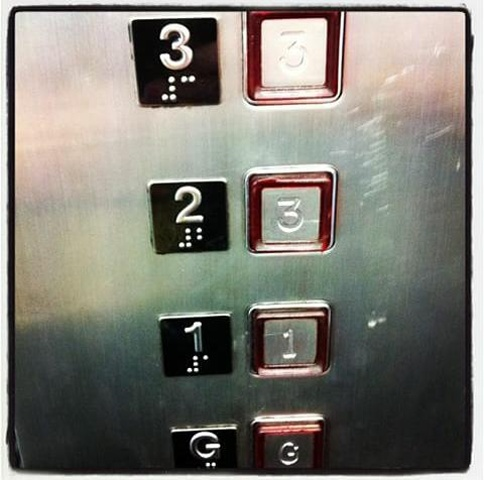1: (246, 298, 333, 376), (159, 310, 235, 380)
2: (146, 177, 235, 257)
3: (241, 10, 347, 109), (127, 15, 224, 109), (243, 163, 338, 258)
G: (172, 420, 241, 474)
unknown: (250, 413, 327, 474)
